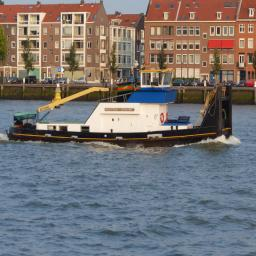tugboat: (5, 68, 235, 152)
